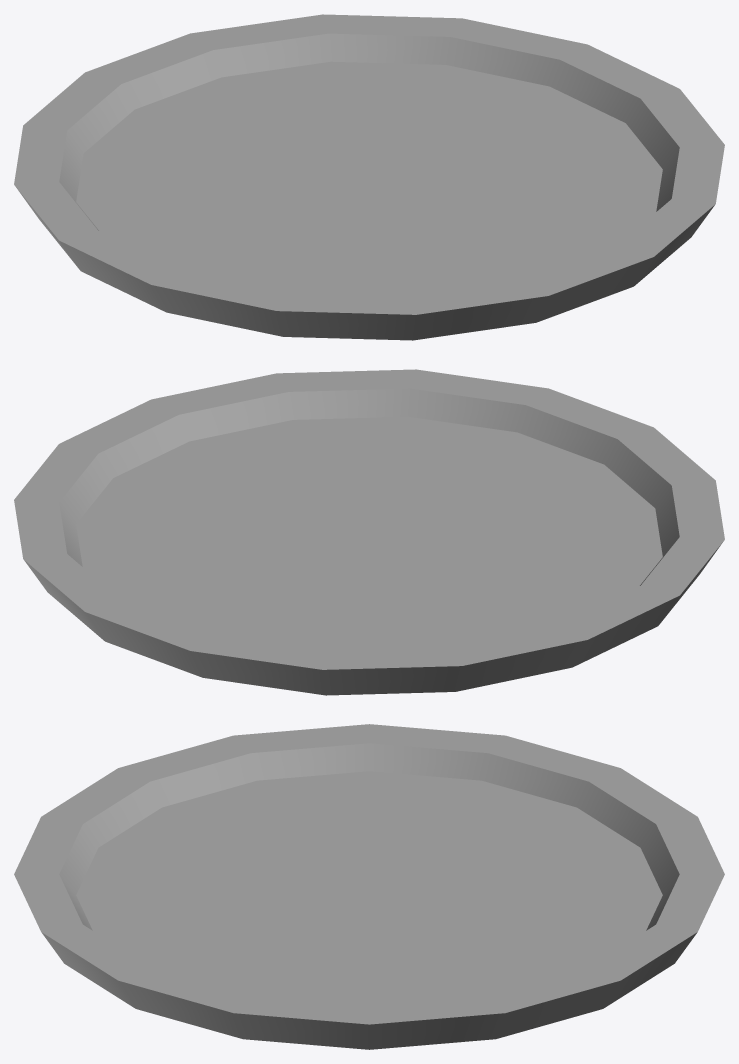
File: Tray_Beer_01.fbx
3 views of the same model, one above another, from view 1: azimuth 30°, elevation 25°; view 2: azimuth 150°, elevation 25°; view 3: azimuth 270°, elevation 25° (orthographic).
Parts seen in each view (by area): view 1: Tray_Beer_01; view 2: Tray_Beer_01; view 3: Tray_Beer_01.
Part boxes in pixels (left/top/right/bottom): Tray_Beer_01: left=14, top=14, right=724, bottom=340; Tray_Beer_01: left=14, top=369, right=724, bottom=695; Tray_Beer_01: left=14, top=724, right=724, bottom=1049.
Bounding box in the file's own units: 0.5491 × 0.0305 × 0.5491.
